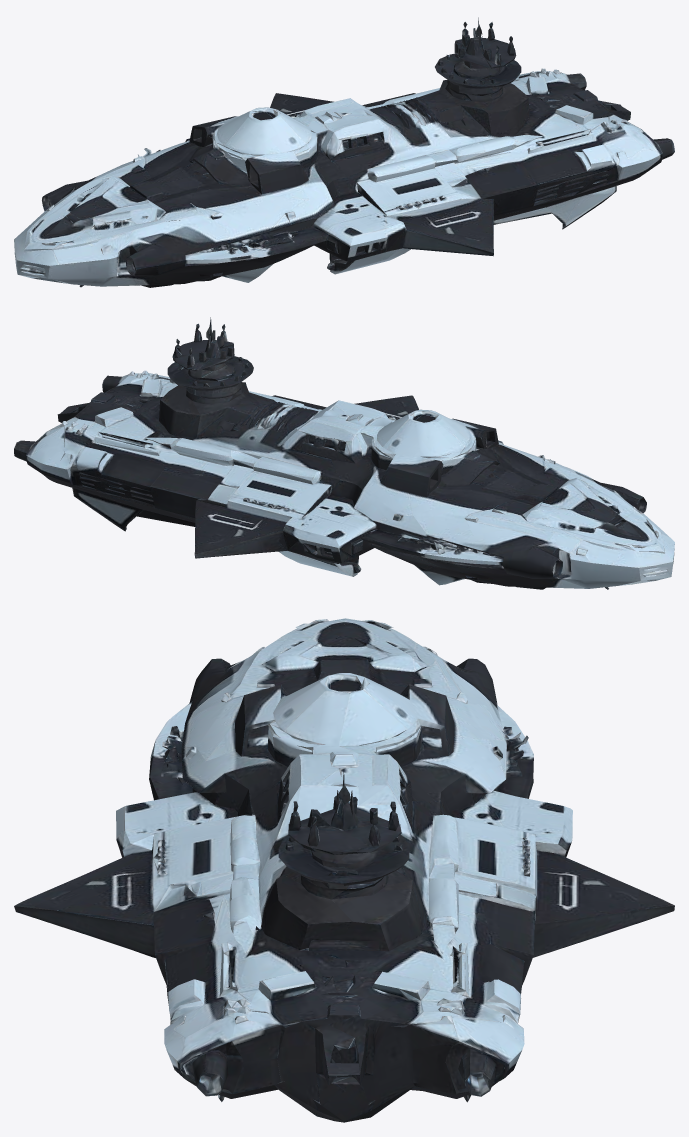
The model's file is enemy-prism-capital.glb.
The picture shows the model from 3 angles, top to bottom: view 1: azimuth 30°, elevation 25°; view 2: azimuth 150°, elevation 25°; view 3: azimuth 270°, elevation 25°; orthographic projection. The views are drawn at different scales.
Size of the model in its own units: 1.9 by 0.6122 by 1.17.
Materials: 1 (1 with a texture image).
